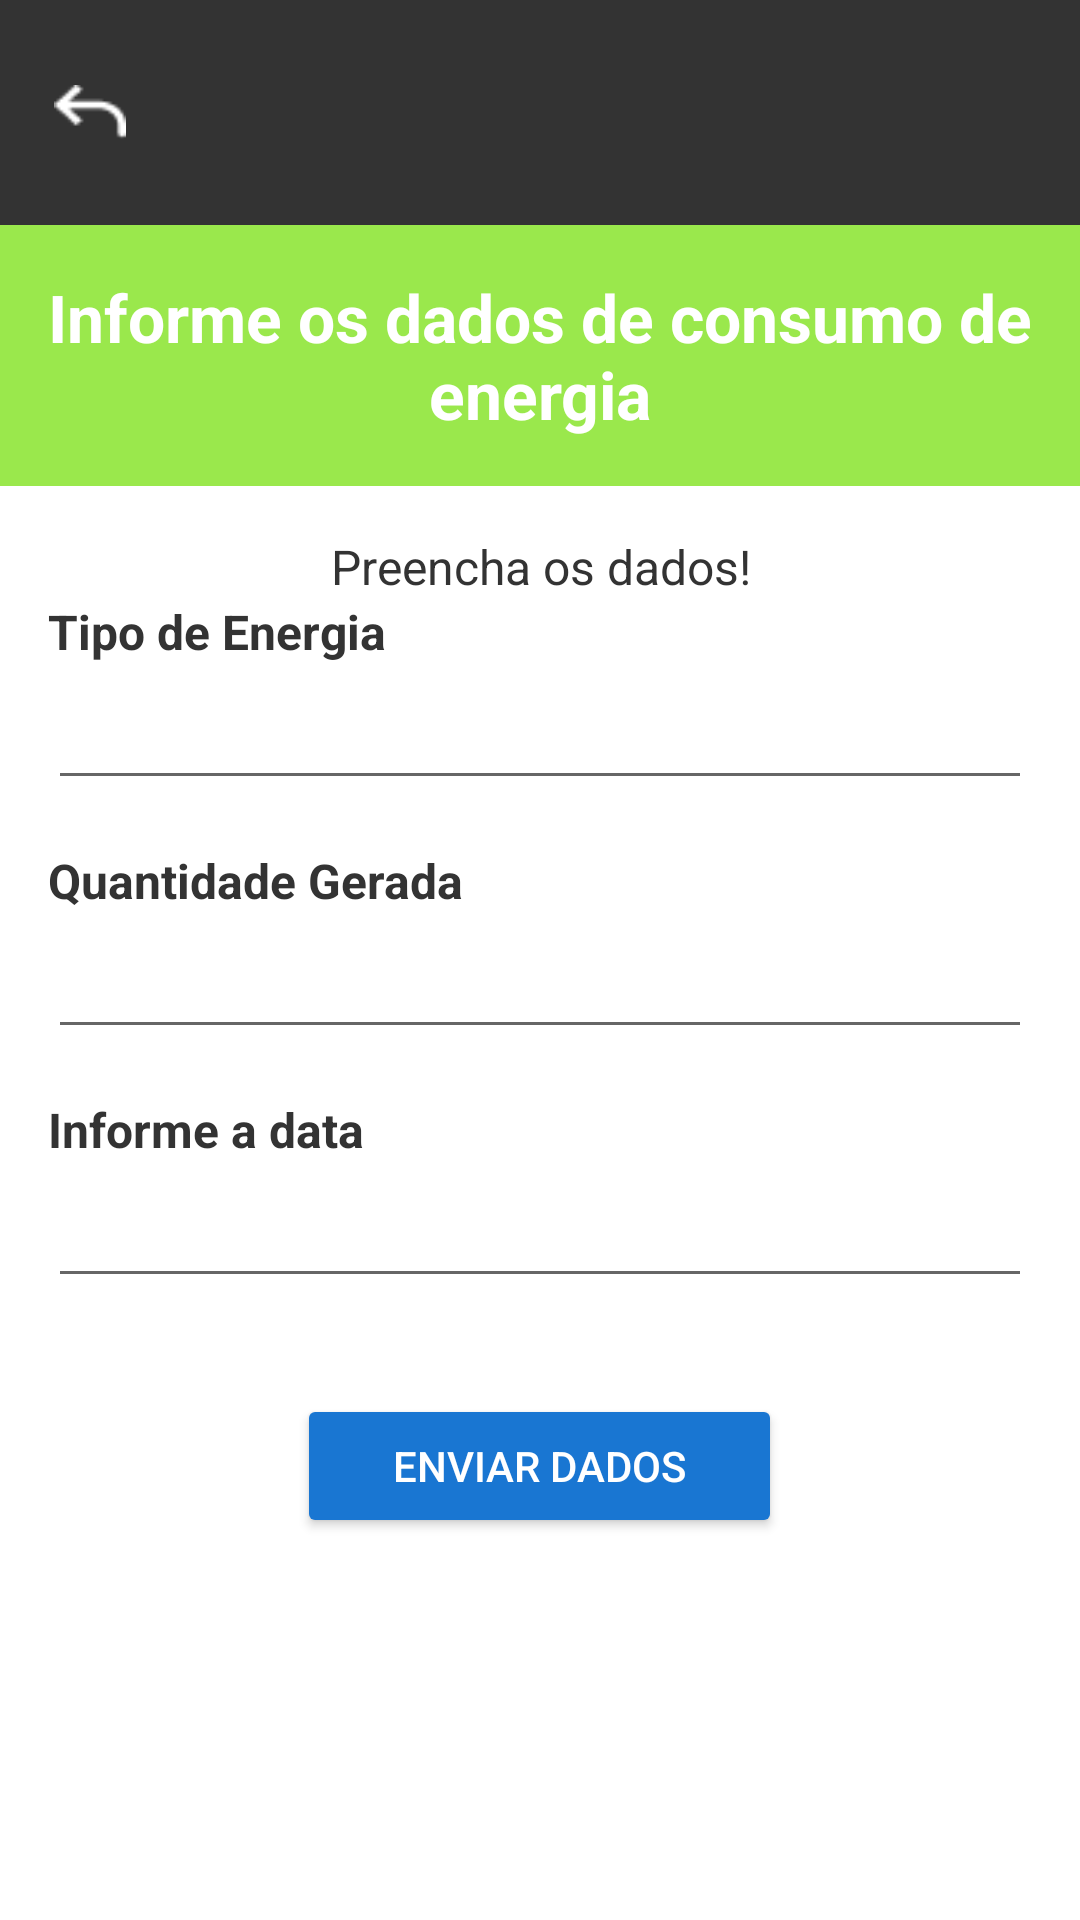

Icon click points for this 1080 x 1920 phone screenshot, format [x,y]:
back: [90,111]
